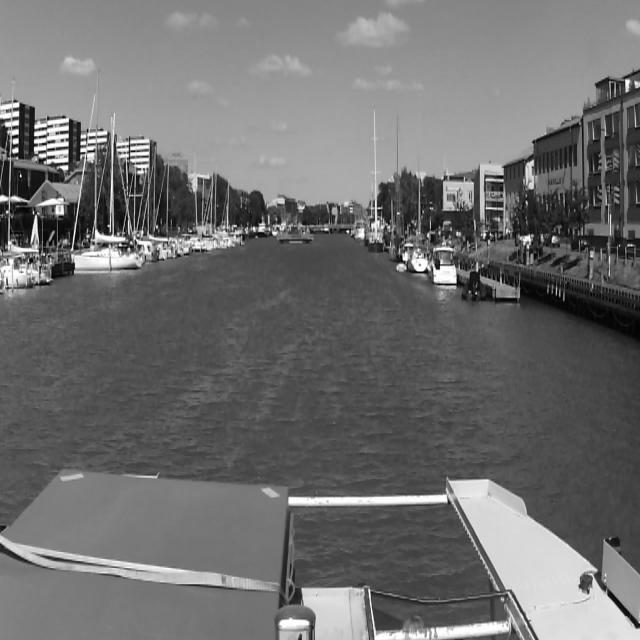ship: (70, 68, 142, 270), (4, 76, 52, 284), (145, 119, 201, 261), (144, 144, 170, 260), (190, 160, 216, 251), (264, 214, 322, 249), (411, 152, 427, 272), (388, 114, 401, 261), (458, 266, 492, 306), (432, 247, 458, 285), (278, 226, 313, 244), (355, 222, 365, 241)
